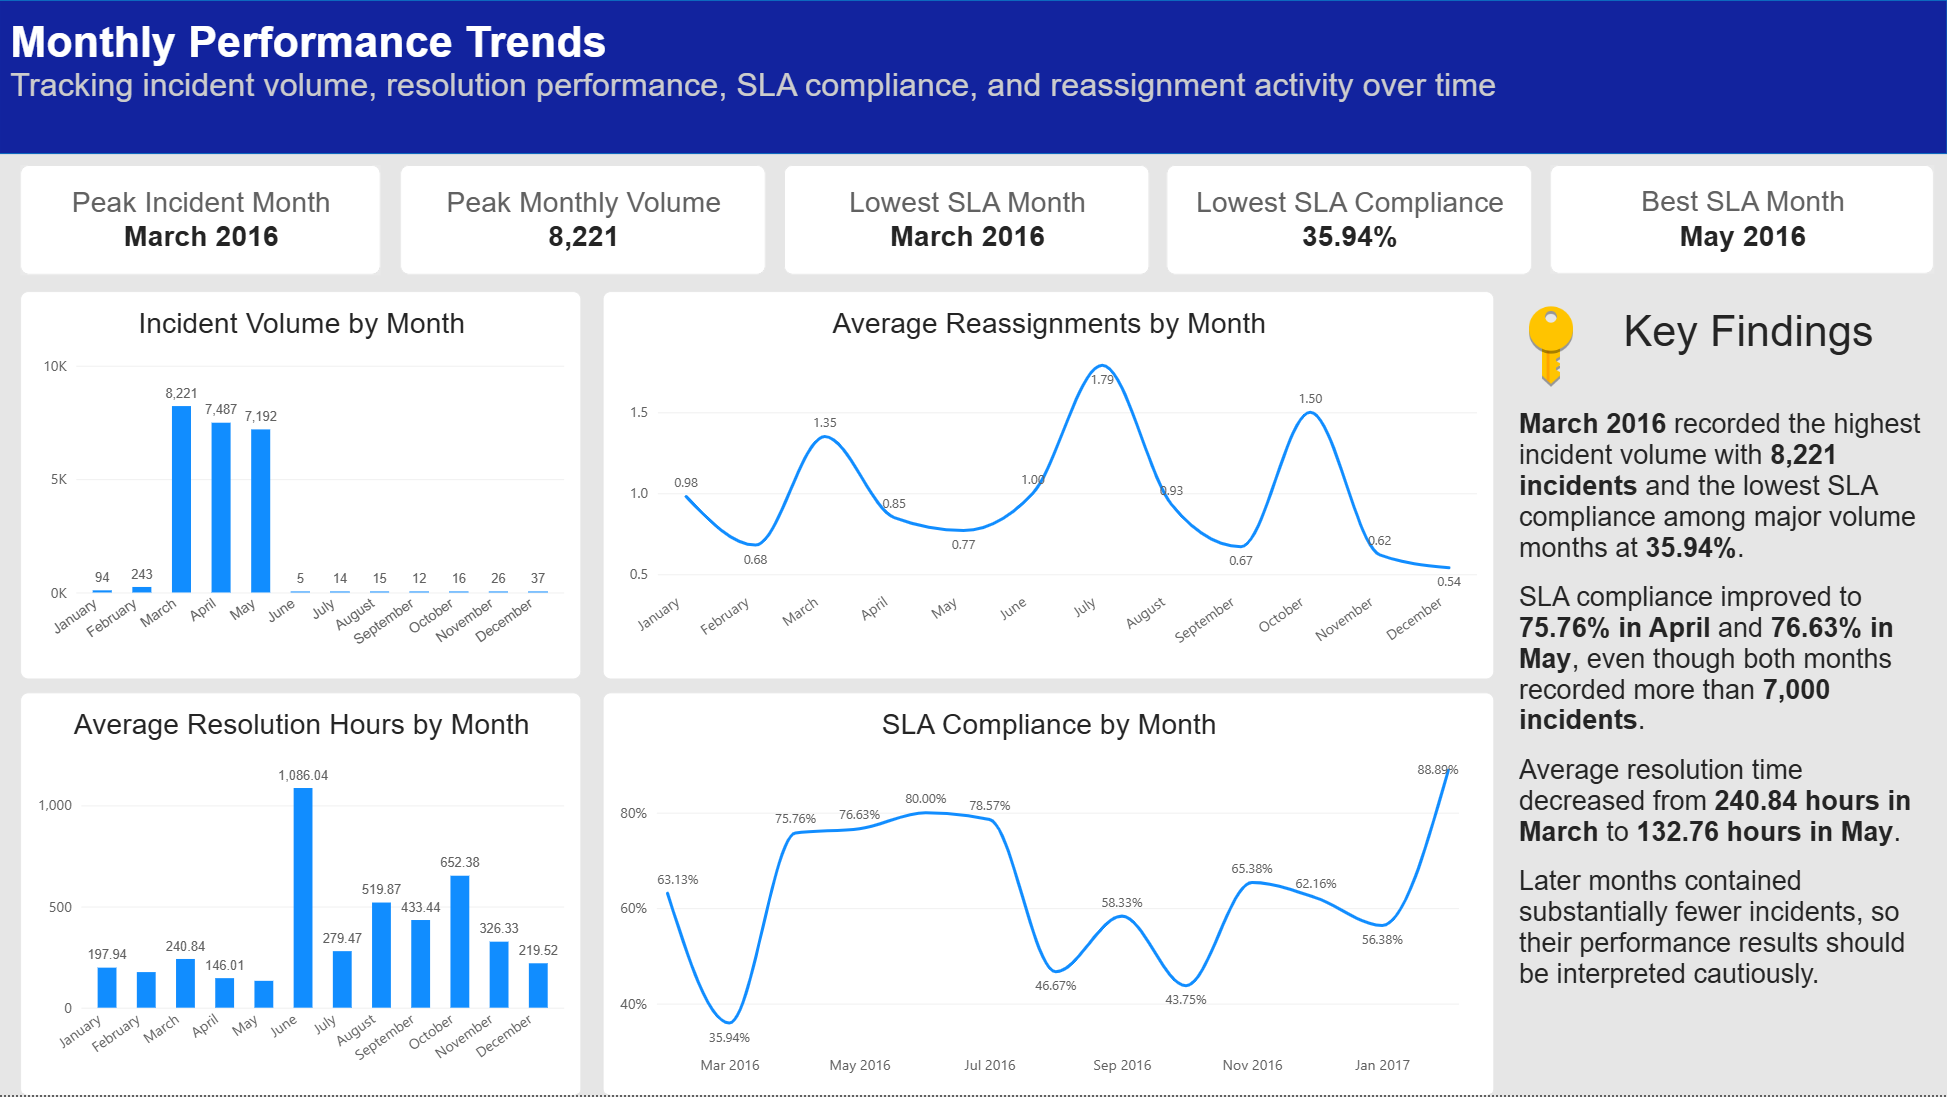

The dashboard page shown, as its layout file describes it:
{"tool":"powerbi","page":{"name":"Monthly Performance Trends","canvas":[1920,1080],"ordinal":5},"visuals":[{"type":"shape","box":[0,0,1920,151.8],"z":0},{"type":"textbox","box":[11.5,17.2,1513.3,146.2],"z":1000},{"type":"cardVisual","title":"Total Incidents","fields":{"Data":["vw_Monthly_Performance.Peak Incident Month"]},"box":[21.5,163.1,355.4,108.9],"z":2000},{"type":"cardVisual","fields":{"Data":["vw_Monthly_Performance.Peak Monthly Volume"]},"box":[394.9,163.1,360,108.2],"z":3000},{"type":"cardVisual","fields":{"Data":["vw_Monthly_Performance.Lowest SLA Month"]},"box":[773,163.2,360,108.2],"z":4000},{"type":"cardVisual","fields":{"Data":["vw_Monthly_Performance.Lowest Monthly SLA %"]},"box":[1151,163.1,360,108.2],"z":5000},{"type":"textbox","box":[1529.1,302.4,390.8,72.7],"z":6000},{"type":"image","box":[1478.9,296.6,100.1,87.2],"z":7000},{"type":"textbox","box":[1497.5,402.7,398.4,656.3],"z":8000},{"type":"cardVisual","title":"Lowest SLA Category (100+ Incidents)","fields":{"Data":["vw_Monthly_Performance.Best SLA Month"]},"box":[1529.1,163.1,378.3,107.5],"z":9000},{"type":"clusteredColumnChart","title":"Incident Volume by Month","fields":{"Category":["vw_Monthly_Performance.Opened_Month.Variation.Date Hierarchy.Month"],"Y":["Sum(vw_Monthly_Performance.Incident_Count)"]},"box":[21.5,286.6,553.2,382.6],"z":10000},{"type":"clusteredColumnChart","title":"Average Resolution Hours by Month","fields":{"Category":["vw_Monthly_Performance.Opened_Month.Variation.Date Hierarchy.Month"],"Y":["Avg(vw_Monthly_Performance.Average_Resolution_Hours)"]},"box":[21.5,682.1,553.2,398.4],"z":11000},{"type":"lineChart","title":"SLA Compliance by Month","fields":{"Y":["vw_Monthly_Performance.Monthly SLA %"],"Category":["vw_Monthly_Performance.Opened_Month.Variation.Date Hierarchy.Year","vw_Monthly_Performance.Opened_Month.Variation.Date Hierarchy.Month"]},"box":[594.7,682.1,878.5,398.4],"z":12000},{"type":"lineChart","title":"Average Reassignments by Month","fields":{"Category":["vw_Monthly_Performance.Opened_Month.Variation.Date Hierarchy.Month"],"Y":["Avg(vw_Monthly_Performance.Average_Reassignments)"]},"box":[594.7,286.6,878.5,382.6],"z":13000}]}

Visuals, with their boxes in screenshot pixels (x1, y1, x2, y2), scaled from the page's 1920x1080 canvas onto the 1947x1097 screenshot:
shape: bbox=[0, 0, 1946, 154]
textbox: bbox=[12, 17, 1546, 166]
"Total Incidents" cardVisual: bbox=[22, 166, 382, 276]
cardVisual - vw_Monthly_Performance.Peak Monthly Volume: bbox=[400, 166, 766, 276]
cardVisual - vw_Monthly_Performance.Lowest SLA Month: bbox=[784, 166, 1149, 276]
cardVisual - vw_Monthly_Performance.Lowest Monthly SLA %: bbox=[1167, 166, 1532, 276]
textbox: bbox=[1551, 307, 1946, 381]
image: bbox=[1500, 301, 1601, 390]
textbox: bbox=[1519, 409, 1923, 1076]
"Lowest SLA Category (100+ Incidents)" cardVisual: bbox=[1551, 166, 1934, 275]
"Incident Volume by Month" clusteredColumnChart: bbox=[22, 291, 583, 680]
"Average Resolution Hours by Month" clusteredColumnChart: bbox=[22, 693, 583, 1096]
"SLA Compliance by Month" lineChart: bbox=[603, 693, 1494, 1096]
"Average Reassignments by Month" lineChart: bbox=[603, 291, 1494, 680]
